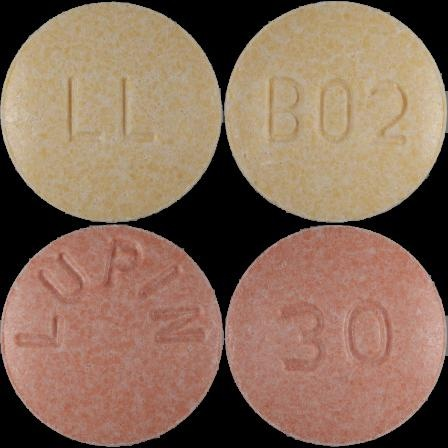54458-992: (0, 0, 224, 224)
